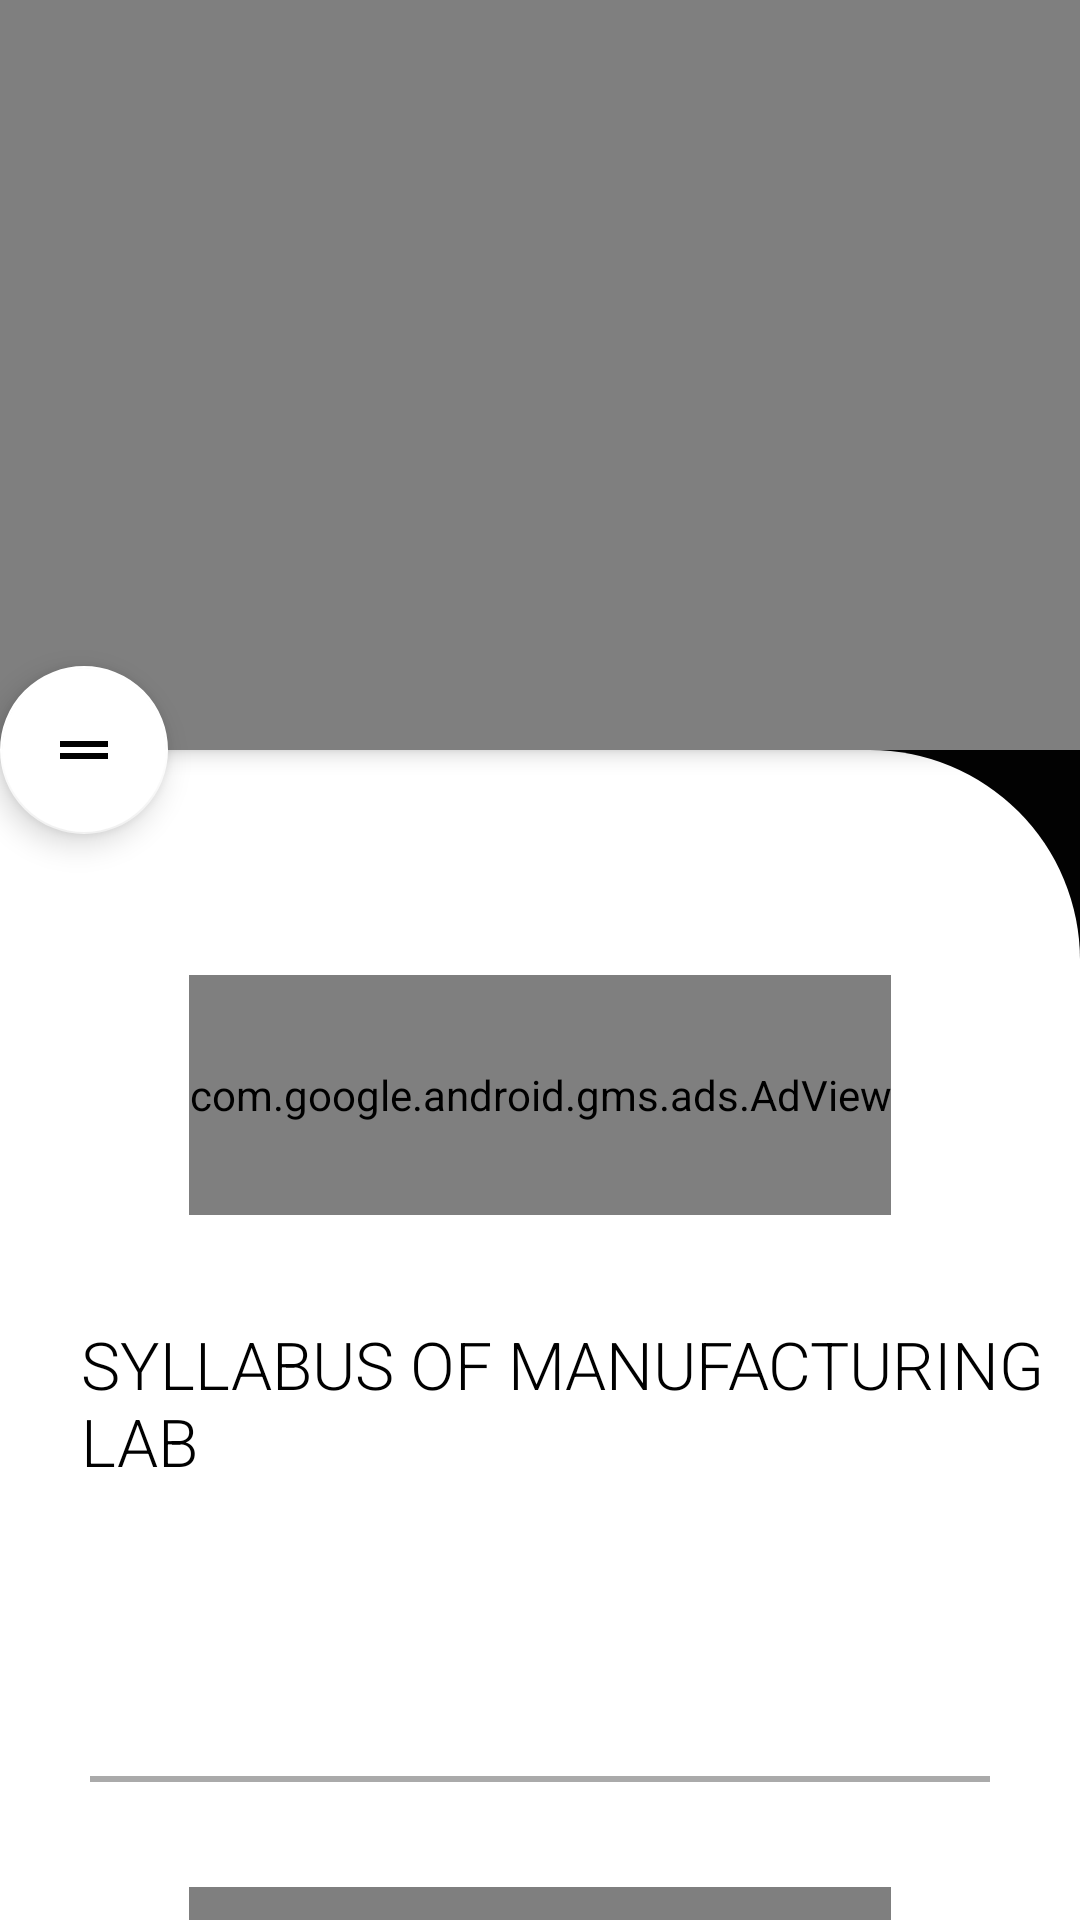

Point at icon controls on the screen. Image size 1080 × 1920, points as point (x, y).
drag handle: point (84, 750)
